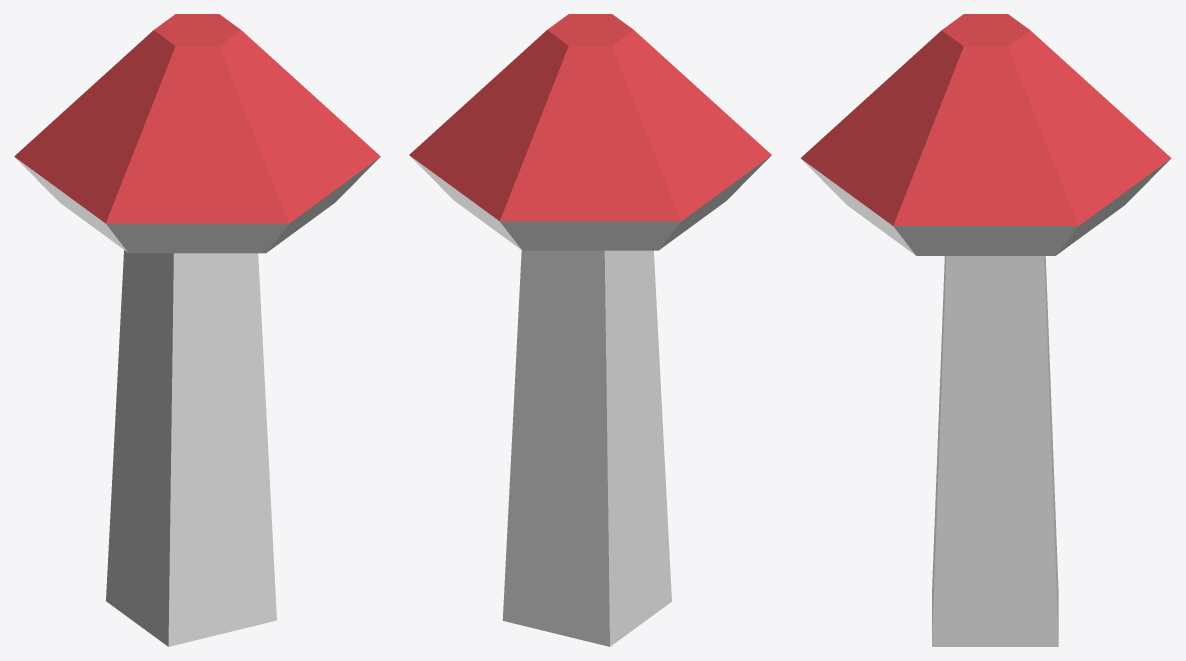
File: mushroom_redTall.fbx
The picture shows the model from 3 angles, left to right: view 1: azimuth 30°, elevation 25°; view 2: azimuth 150°, elevation 25°; view 3: azimuth 270°, elevation 25°; orthographic projection. The views are drawn at different scales.
Parts seen in each view (by area): view 1: mushroom_redTall; view 2: mushroom_redTall; view 3: mushroom_redTall.
Boxes of the visible parts, x1,y1,x2,y2 form: mushroom_redTall: (14,14,380,646); mushroom_redTall: (409,14,771,646); mushroom_redTall: (800,14,1171,646).
Size of the model in its own units: 1.24 by 2.5 by 1.43.
